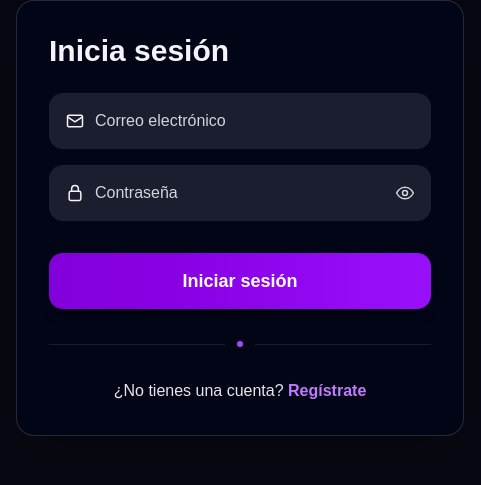
LoginForm › should reject an invalid email
Type "invalid-email" into the field labelled "Correo electrónico". click: (255, 121)
box: [95,93,415,149]
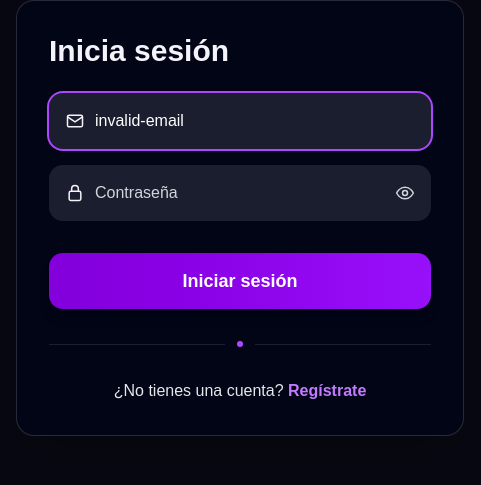
Type "Password123" into the password field labelled "Contraseña". click: (240, 193)
box: [95,165,385,221]
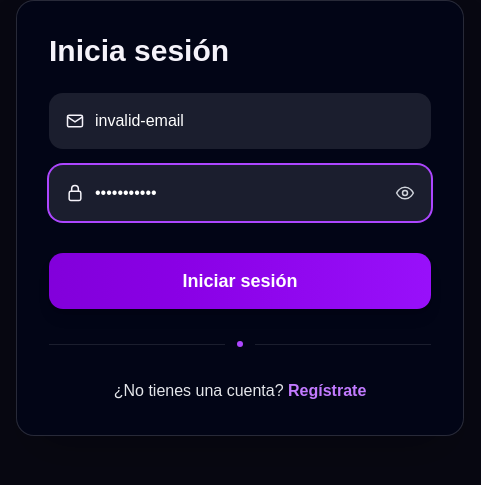
Click the button "Iniciar sesión". click: (240, 281)
box: [49,253,431,309]
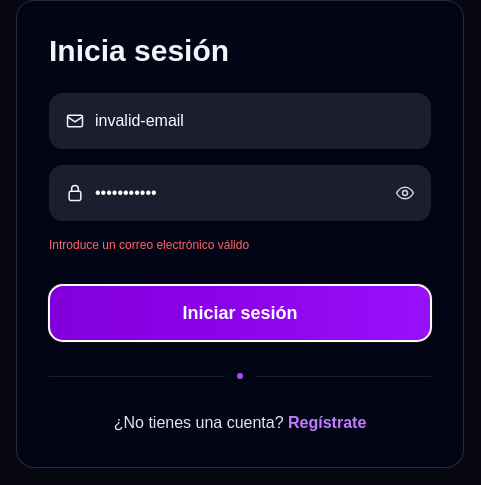
Expected: the message reads "Introduce un correo electrónico válido", [49,238,249,252]
